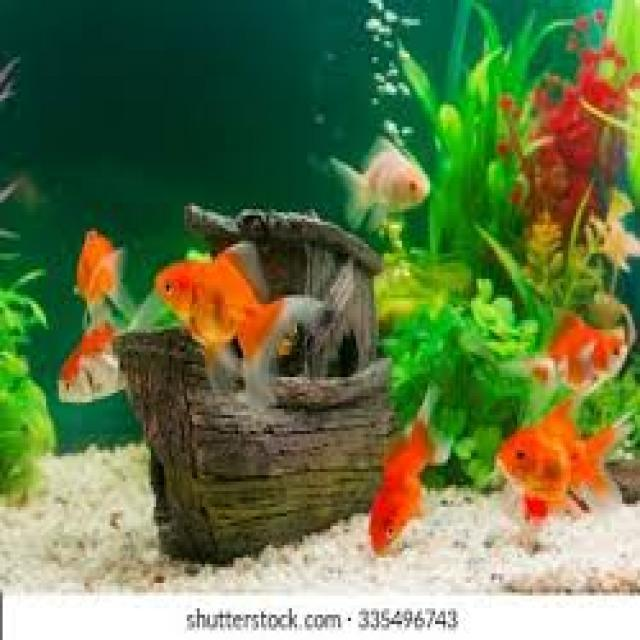goldfish: (137, 244, 289, 360), (307, 133, 445, 244)
